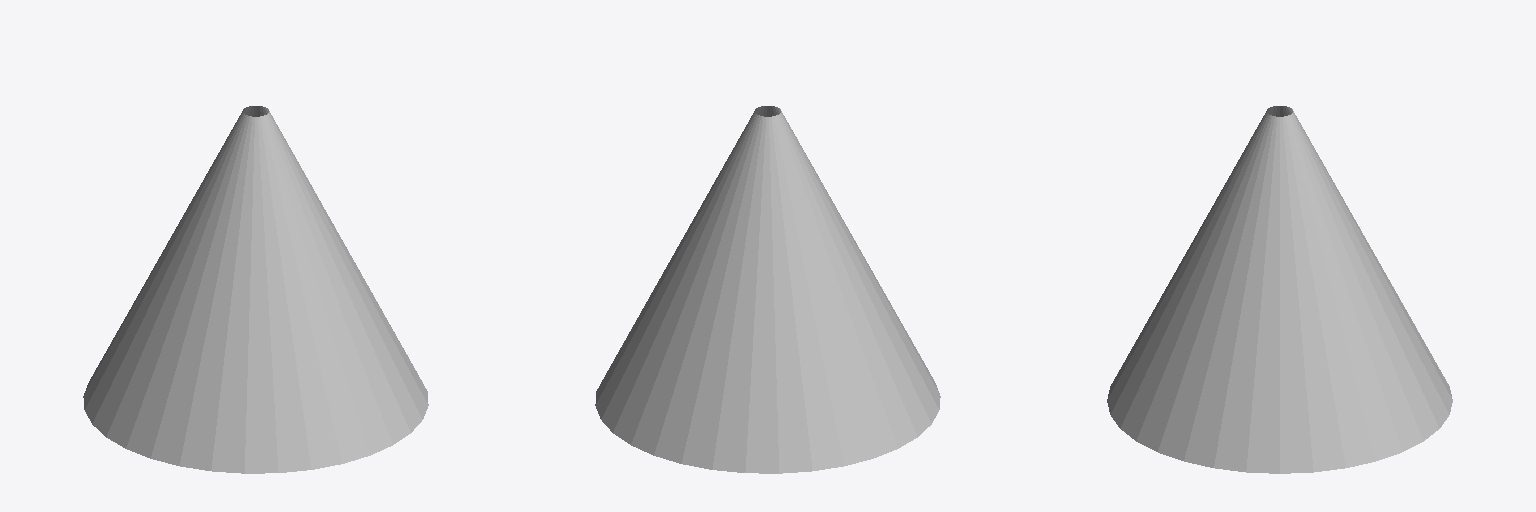
File: light_cone.obj
The picture shows the model from 3 angles: view 1: azimuth 30°, elevation 25°; view 2: azimuth 150°, elevation 25°; view 3: azimuth 270°, elevation 25°; orthographic projection.
Parts seen in each view (by area): view 1: Cone; view 2: Cone; view 3: Cone.
Part boxes in pixels (bbox=[...]): Cone: bbox=[83, 106, 428, 473]; Cone: bbox=[595, 106, 940, 473]; Cone: bbox=[1107, 106, 1452, 473].
Size of the model in its own units: 2 by 1.85 by 2.